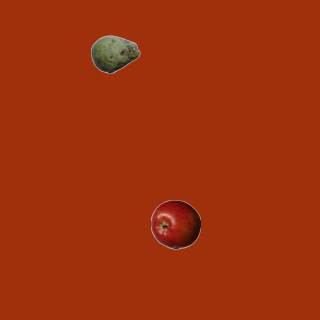Apple Braeburn: (150, 199, 200, 249)
Pear Stone: (90, 29, 140, 79)
